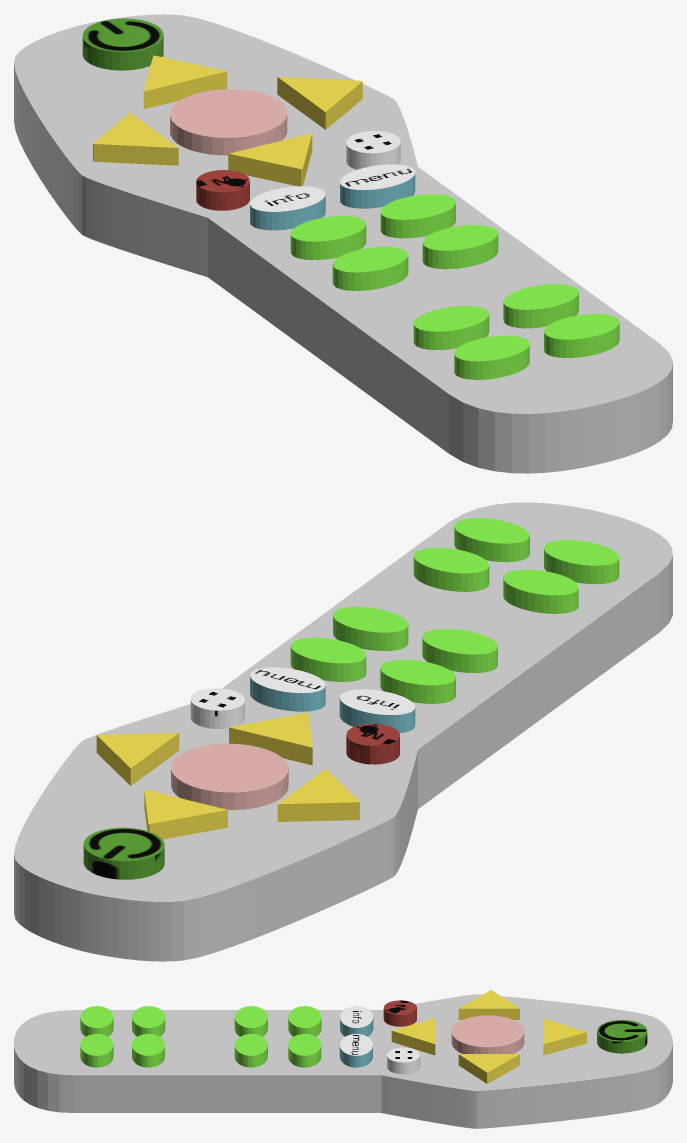
The model's file is remote7.glb.
3 renders of one model, top to bottom at view 1: azimuth 30°, elevation 25°; view 2: azimuth 150°, elevation 25°; view 3: azimuth 270°, elevation 25°, orthographic. The views are drawn at different scales.
Visible parts, largest first — view 1: Curve, Middle_Button, Power_Button, Prev_Proj, Next_Proj, Next_Channel, Prev_Channel, Button_3, Button 4, Button_9, Button_10, Button_1 (+7 smaller); view 2: Curve, Middle_Button, Power_Button, Next_Proj, Prev_Proj, Button_8, Prev_Channel, Menu_Button, Button_7, Button 4, Button_3, Button_2 (+7 smaller); view 3: Curve, Middle_Button, Power_Button, Next_Proj, Prev_Proj, Next_Channel, Prev_Channel, Button_2, Button 4, Button_10, Menu_Button, Button_8 (+7 smaller).
Boxes of the visible parts, x1,y1,x2,y2 form: Curve: [14, 14, 672, 473]; Middle_Button: [170, 89, 287, 155]; Power_Button: [82, 18, 163, 70]; Prev_Proj: [93, 112, 178, 165]; Next_Proj: [277, 76, 362, 129]; Next_Channel: [228, 133, 312, 186]; Prev_Channel: [143, 55, 227, 109]; Button_3: [332, 246, 408, 290]; Button 4: [422, 225, 498, 269]; Button_9: [454, 335, 529, 379]; Button_10: [544, 314, 619, 357]; Button_1: [290, 216, 366, 260]; Curve: [14, 502, 672, 961]; Middle_Button: [171, 743, 288, 809]; Power_Button: [83, 827, 164, 879]; Next_Proj: [96, 733, 179, 785]; Prev_Proj: [277, 769, 359, 821]; Button_8: [413, 547, 489, 591]; Prev_Channel: [144, 789, 227, 839]; Menu_Button: [250, 667, 325, 711]; Button_7: [503, 569, 578, 613]; Button 4: [333, 607, 408, 650]; Button_3: [422, 629, 497, 672]; Button_2: [290, 637, 366, 681]; Curve: [14, 994, 672, 1128]; Middle_Button: [451, 1015, 524, 1053]; Power_Button: [597, 1019, 647, 1053]; Next_Proj: [458, 1054, 519, 1083]; Prev_Proj: [458, 990, 519, 1019]; Next_Channel: [391, 1018, 435, 1055]; Prev_Channel: [543, 1018, 586, 1055]; Button_2: [288, 1034, 321, 1067]; Button 4: [234, 1034, 267, 1067]; Button_10: [80, 1034, 113, 1067]; Menu_Button: [339, 1034, 372, 1067]; Button_8: [132, 1034, 164, 1067].
Bounding box in the file's own units: 2.51 × 0.6006 × 7.24.
21 materials, 5 textured.
